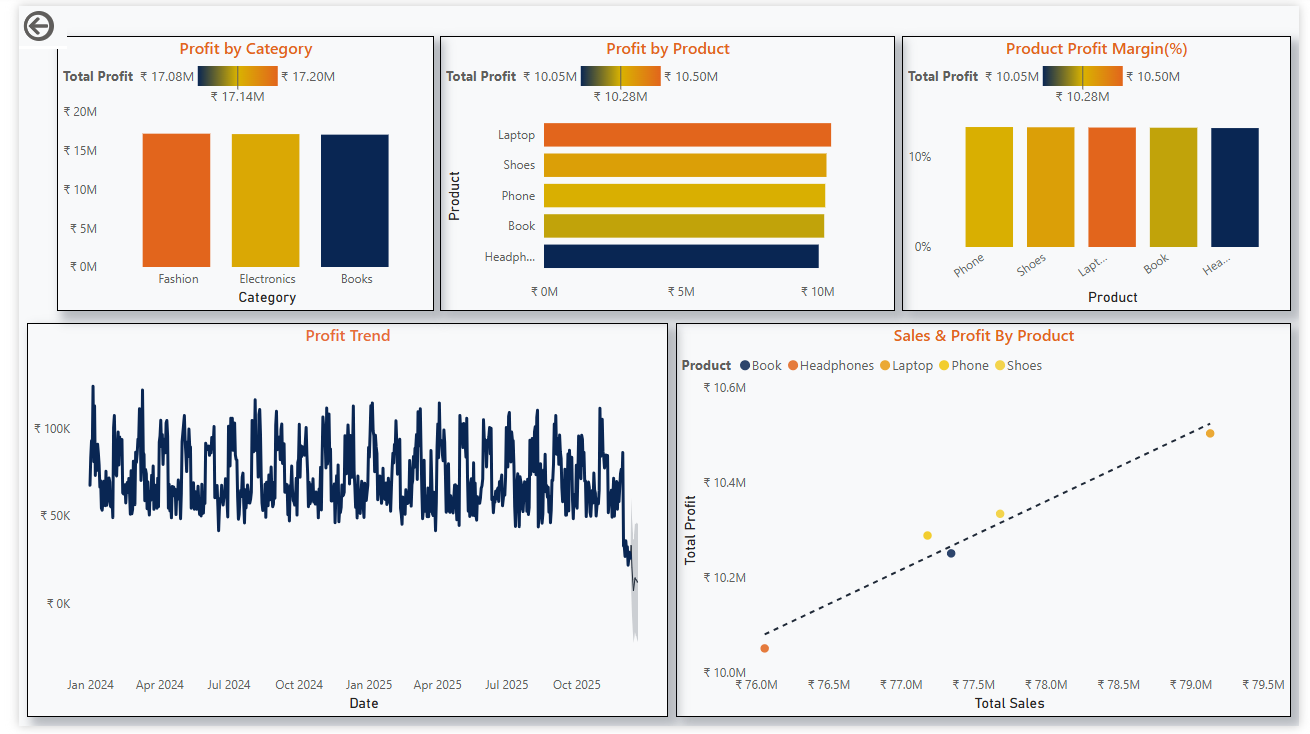

This screenshot's page, from the dashboard's own definition file:
{"tool":"powerbi","page":{"name":"Profitability Analysis","canvas":[1280,720],"ordinal":2},"visuals":[{"type":"columnChart","title":"Profit by Category","fields":{"Category":["ShopEase.Category"],"Y":["All Measures.Total Profit"]},"box":[38.1,30.1,376.8,274.9],"z":0},{"type":"barChart","title":"Profit by Product","fields":{"Category":["ShopEase.Product"],"Y":["All Measures.Total Profit"]},"box":[421.2,30.1,454.9,274.9],"z":1000},{"type":"columnChart","title":"Product Profit Margin(%)","fields":{"Y":["All Measures.Profit Margin %"],"Category":["ShopEase.Product"]},"box":[883.2,30.1,389.3,274.9],"z":2000},{"type":"actionButton","box":[0,2.7,47.9,39.9],"z":3000},{"type":"scatterChart","title":"Sales & Profit By Product","fields":{"X":["All Measures.Total Sales"],"Y":["All Measures.Total Profit"],"Series":["ShopEase.Product"]},"box":[657,317.4,615.4,393.7],"z":4000},{"type":"actionButton","box":[0,0,47.9,39.9],"z":5000},{"type":"actionButton","box":[0,0,38.1,39.9],"z":6000},{"type":"lineChart","title":"Profit Trend","fields":{"Y":["All Measures.Total Profit"],"Category":["Date Model.Date"]},"box":[8,317.4,641.1,393.7],"z":7000}]}

Visuals, with their boxes in screenshot pixels (x1, y1, x2, y2), scaled from the page's 1280x720 canvas onto the 1310x734 screenshot:
"Profit by Category" columnChart: Rect(39, 31, 425, 311)
"Profit by Product" barChart: Rect(431, 31, 897, 311)
"Product Profit Margin(%)" columnChart: Rect(904, 31, 1302, 311)
actionButton: Rect(0, 3, 49, 43)
"Sales & Profit By Product" scatterChart: Rect(672, 324, 1302, 725)
actionButton: Rect(0, 0, 49, 41)
actionButton: Rect(0, 0, 39, 41)
"Profit Trend" lineChart: Rect(8, 324, 664, 725)
